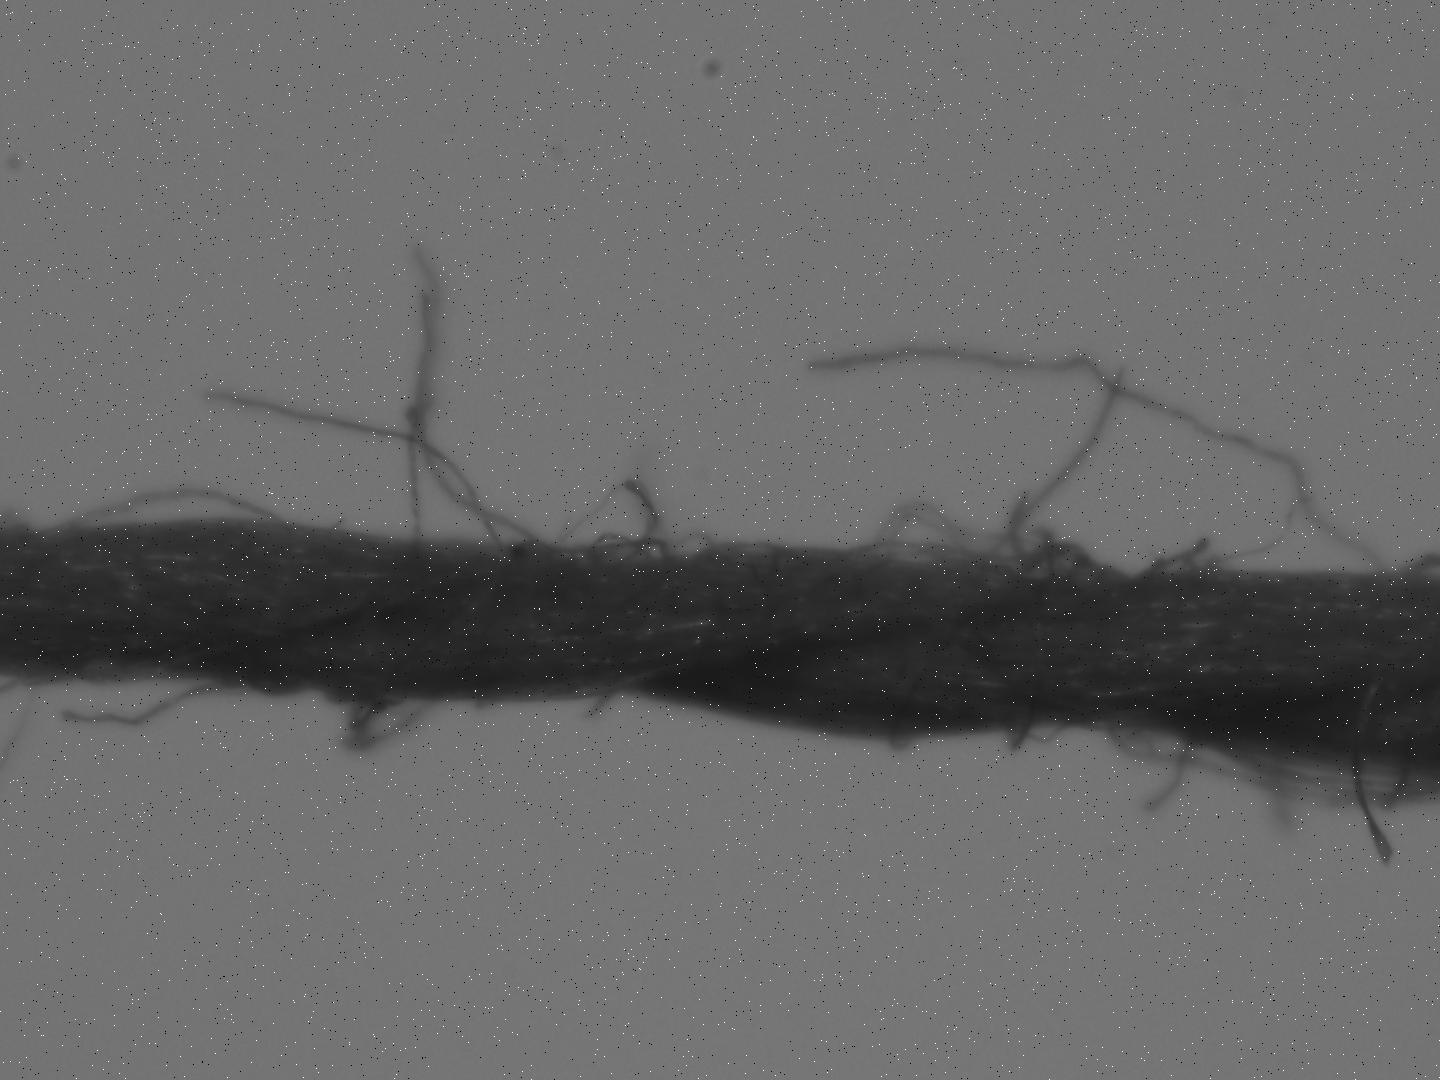loop_fiber: (399, 244, 550, 550), (1108, 723, 1440, 813), (859, 497, 1111, 588), (551, 480, 729, 568), (40, 490, 291, 535), (324, 691, 441, 751), (1135, 533, 1222, 583), (990, 727, 1074, 761), (1395, 550, 1440, 590)
protruding_fiber: (799, 346, 1391, 576), (203, 388, 507, 548), (1010, 371, 1129, 572), (1185, 491, 1327, 577), (52, 682, 240, 732), (1346, 737, 1400, 870), (1134, 741, 1197, 818)
